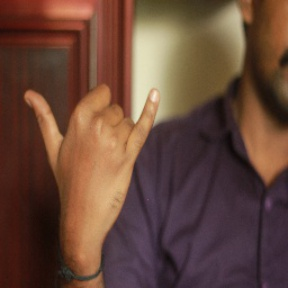J: (23, 66, 163, 224)
